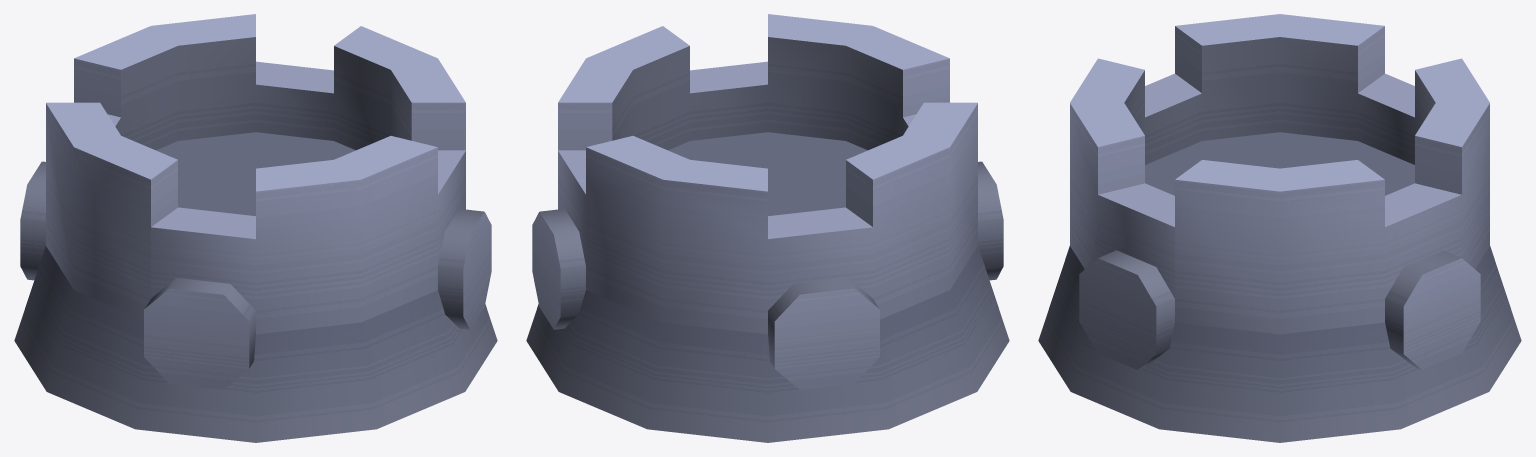
Rendered from tower-round-top-a.glb.
The picture shows the model from 3 angles, left to right: view 1: azimuth 30°, elevation 25°; view 2: azimuth 150°, elevation 25°; view 3: azimuth 270°, elevation 25°; orthographic projection.
Parts seen in each view (by area): view 1: tower-round-top-a; view 2: tower-round-top-a; view 3: tower-round-top-a.
Part boxes in pixels (x1,y1,x2,y2): tower-round-top-a: (14,14,497,442); tower-round-top-a: (526,14,1009,442); tower-round-top-a: (1038,14,1521,442).
Bounding box in the file's own units: 2.76 × 1.5 × 2.76.
Materials: 1 (1 with a texture image).
